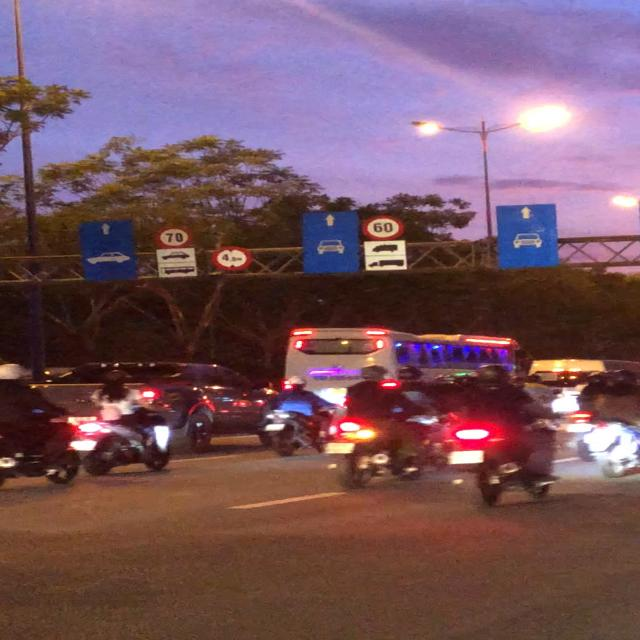Bien bao han che chieu cao: (209, 243, 256, 272)
Bien bao toc do toi da cho phep: (361, 213, 406, 242), (155, 225, 195, 251)
